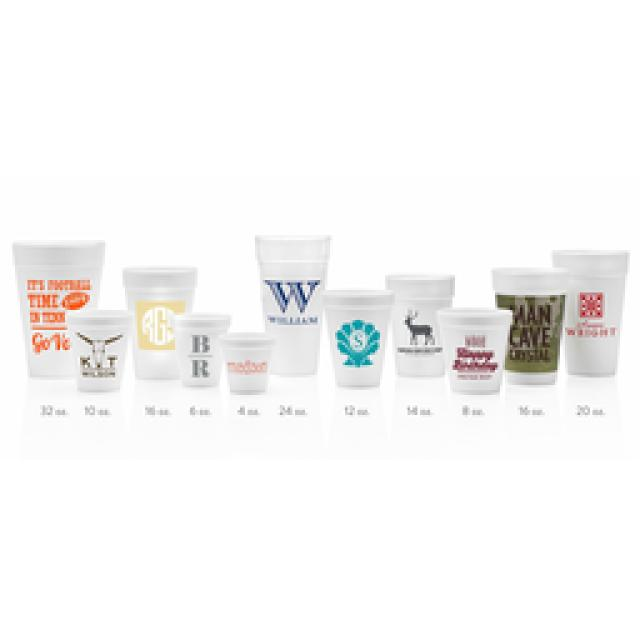styrofoam: (15, 235, 620, 390)
